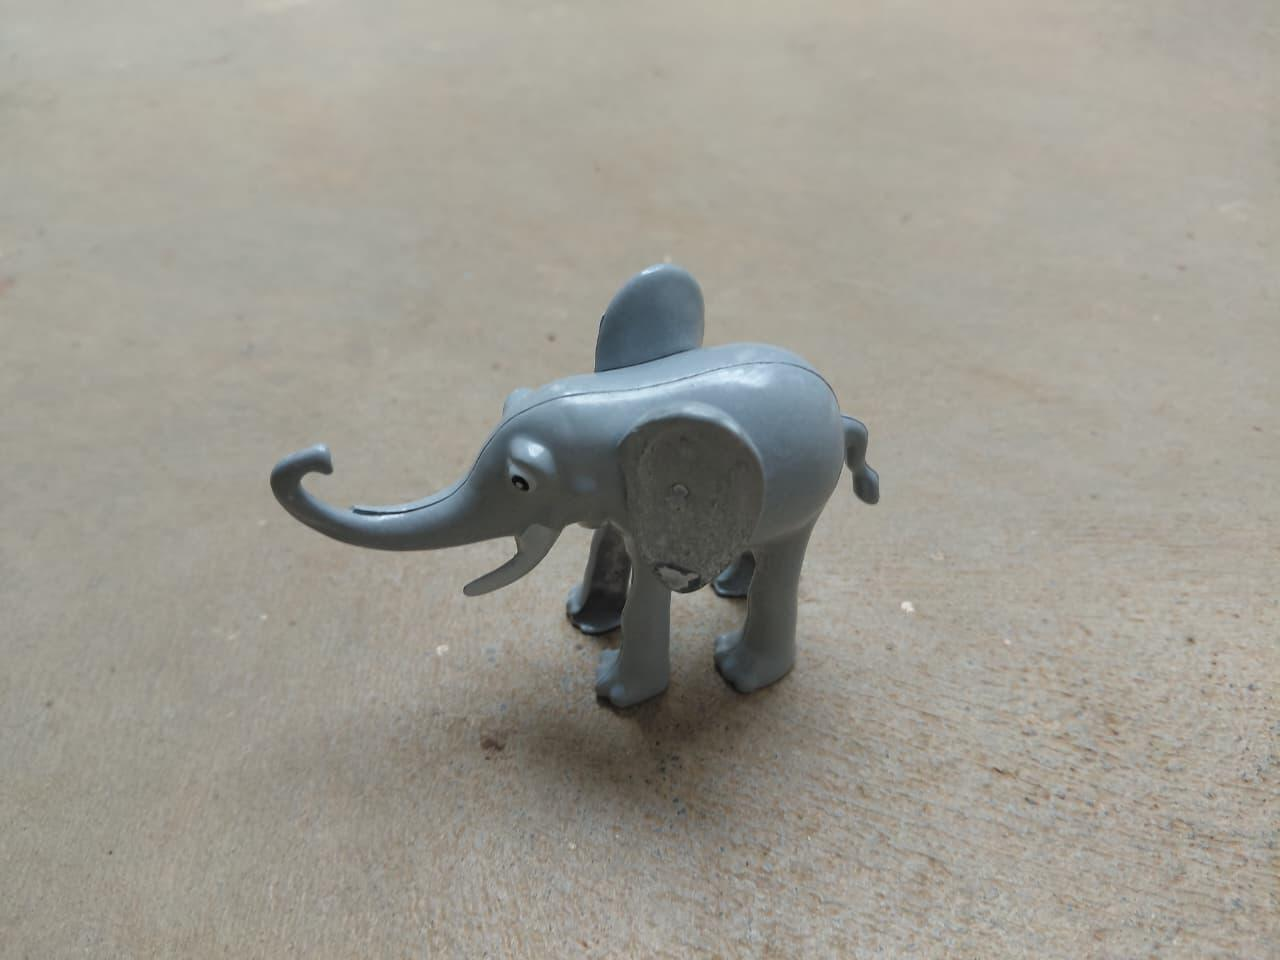elephant: (252, 256, 890, 716)
